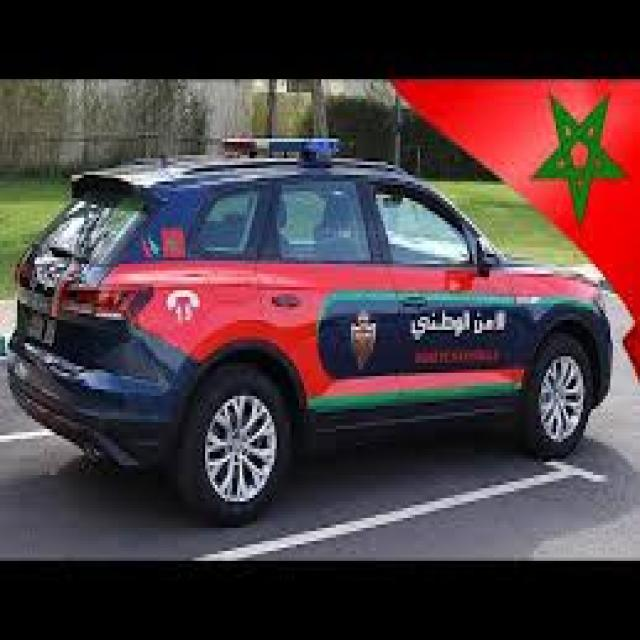police: (17, 109, 609, 522)
